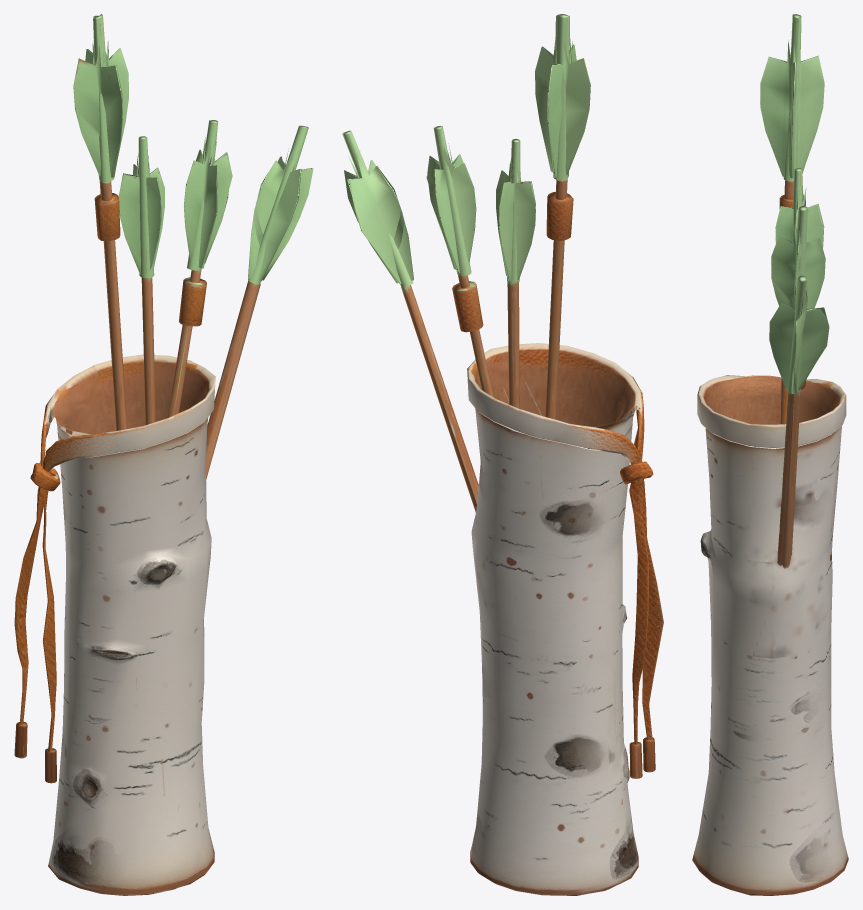
Rendered from birch-quiver-r2_refine.glb.
3 renders of one model, left to right at view 1: azimuth 30°, elevation 25°; view 2: azimuth 150°, elevation 25°; view 3: azimuth 270°, elevation 25°, orthographic. The views are drawn at different scales.
Size of the model in its own units: 0.3516 by 0.9512 by 0.1616.
1 material, 1 textured.
